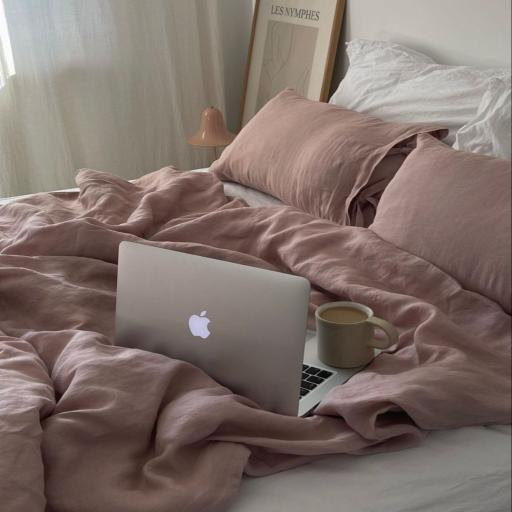corridor: (115, 242, 361, 416)
person: (0, 36, 512, 512)
